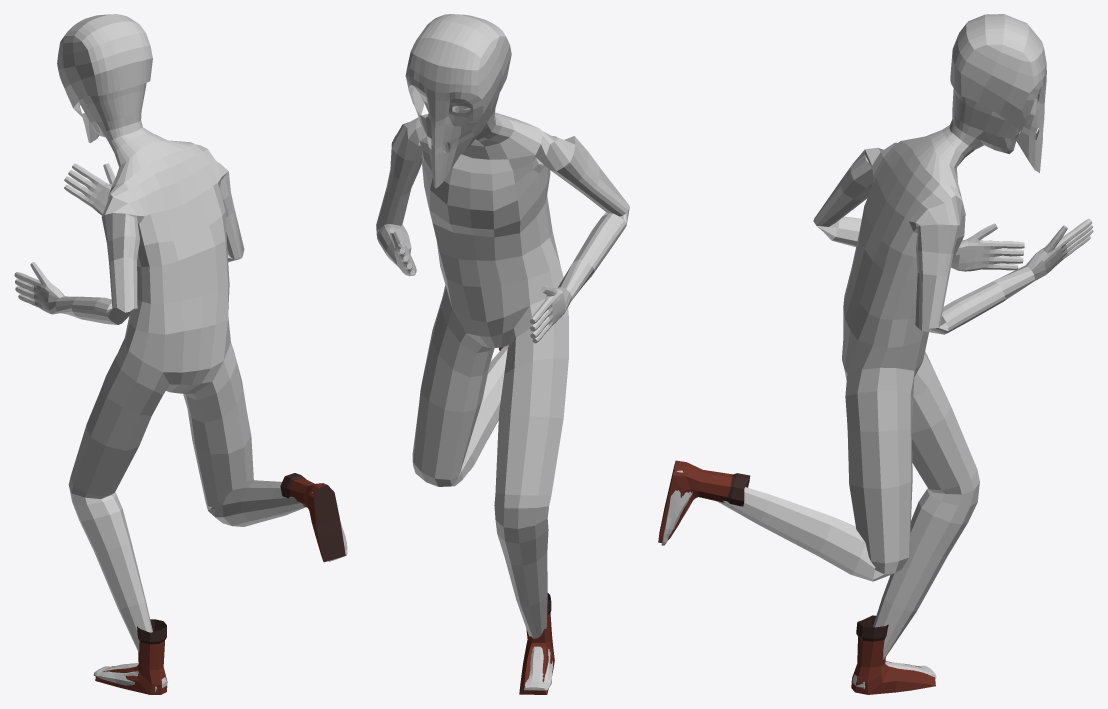
The model's file is correr_000152.obj.
The picture shows the model from 3 angles, left to right: view 1: azimuth 30°, elevation 25°; view 2: azimuth 150°, elevation 25°; view 3: azimuth 270°, elevation 25°; orthographic projection. The views are drawn at different scales.
Parts seen in each view (by area): view 1: Plane.002_Plane.001, Plane.003, Plane.004; view 2: Plane.002_Plane.001, Plane.004; view 3: Plane.002_Plane.001, Plane.004, Plane.003.
Boxes of the visible parts, x1,y1,x2,y2 form: Plane.002_Plane.001: [14, 14, 347, 692]; Plane.003: [280, 473, 345, 562]; Plane.004: [95, 619, 167, 694]; Plane.002_Plane.001: [376, 14, 629, 690]; Plane.004: [519, 593, 554, 694]; Plane.002_Plane.001: [661, 14, 1093, 689]; Plane.004: [851, 615, 935, 694]; Plane.003: [658, 460, 750, 542].
Size of the model in its own units: 2.02 by 6.49 by 3.77.
